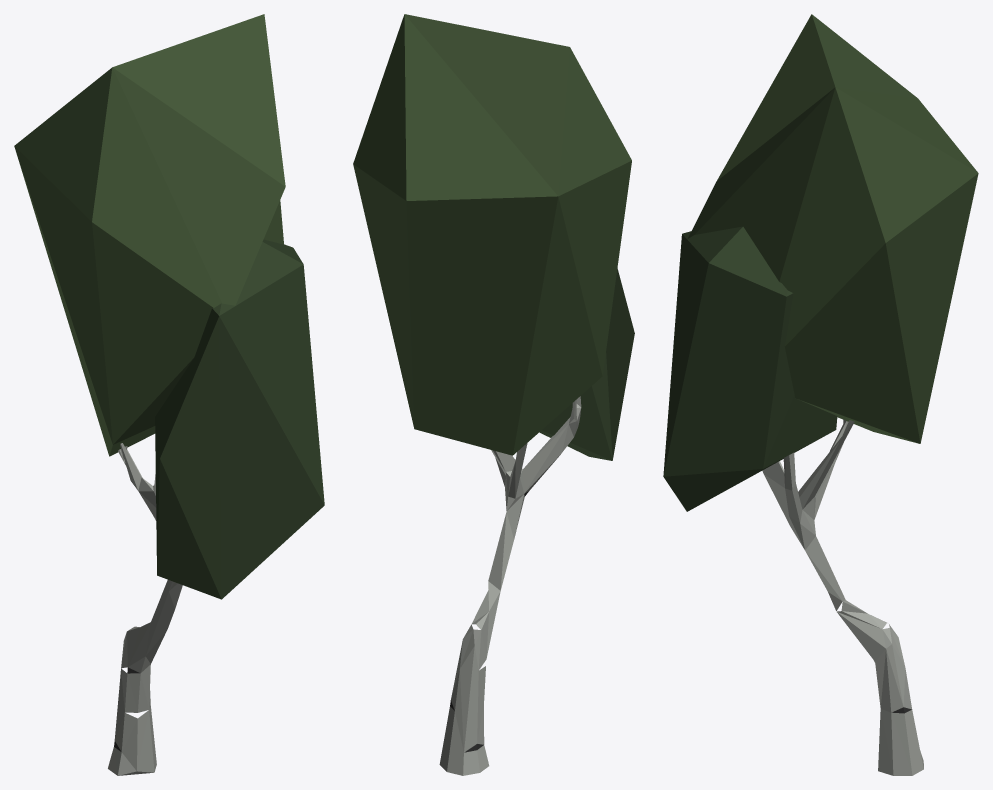
File: BirchTree_2_lod.glb
The picture shows the model from 3 angles, left to right: view 1: azimuth 30°, elevation 25°; view 2: azimuth 150°, elevation 25°; view 3: azimuth 270°, elevation 25°; orthographic projection. The views are drawn at different scales.
Parts seen in each view (by area): view 1: BirchTree_2; view 2: BirchTree_2; view 3: BirchTree_2.
Part boxes in pixels (bbox=[...]): BirchTree_2: bbox=[14, 14, 324, 775]; BirchTree_2: bbox=[353, 14, 634, 775]; BirchTree_2: bbox=[663, 14, 978, 775].
Bounding box in the file's own units: 1.32 × 4 × 1.58.
